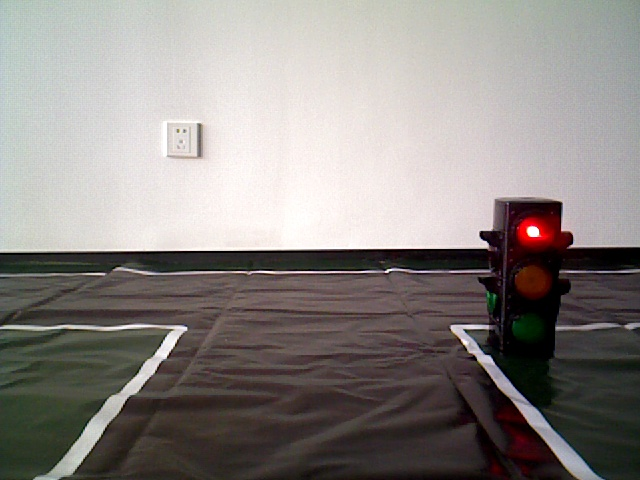red: (493, 201, 558, 360)
